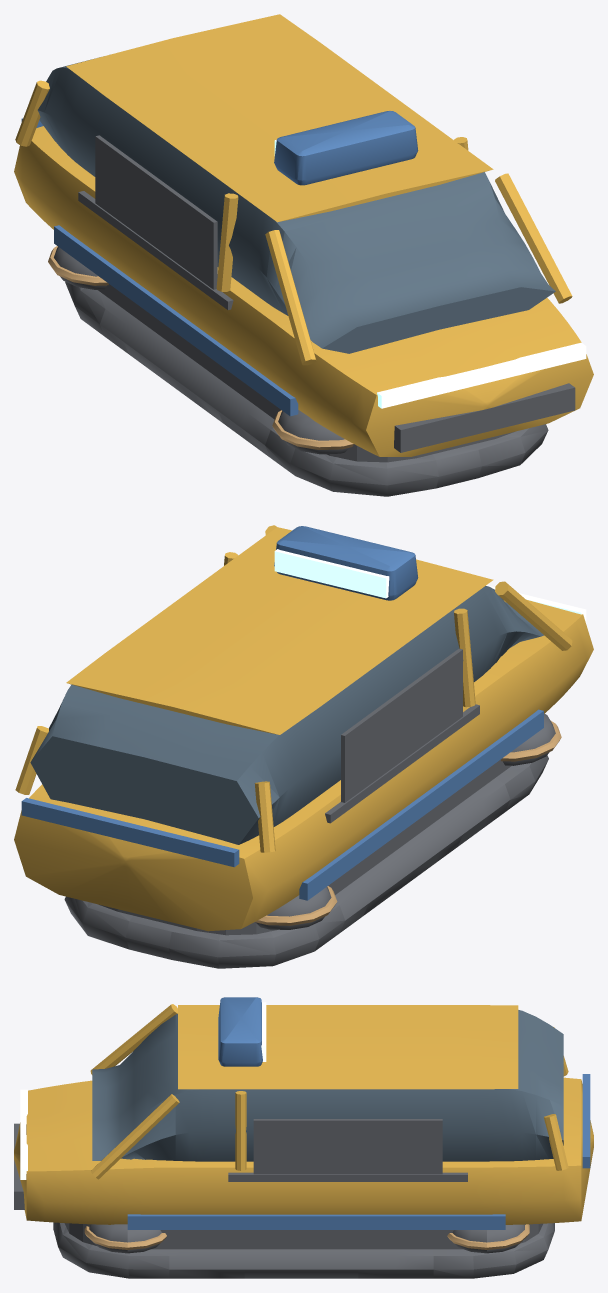
Rendered from hover-transit-and-antigrav-fleet-hover-taxi-night-live-ee415479__17077.glb.
3 renders of one model, top to bottom at view 1: azimuth 30°, elevation 25°; view 2: azimuth 150°, elevation 25°; view 3: azimuth 270°, elevation 25°, orthographic. The views are drawn at different scales.
Parts seen in each view (by area): view 1: hover-taxi-night-livery; view 2: hover-taxi-night-livery; view 3: hover-taxi-night-livery.
Boxes of the visible parts, box(x1,y1,x2,y2) form: hover-taxi-night-livery: box(14, 14, 593, 496); hover-taxi-night-livery: box(14, 525, 593, 968); hover-taxi-night-livery: box(14, 997, 593, 1278).
Bounding box in the file's own units: 2.02 × 1.92 × 4.6.
